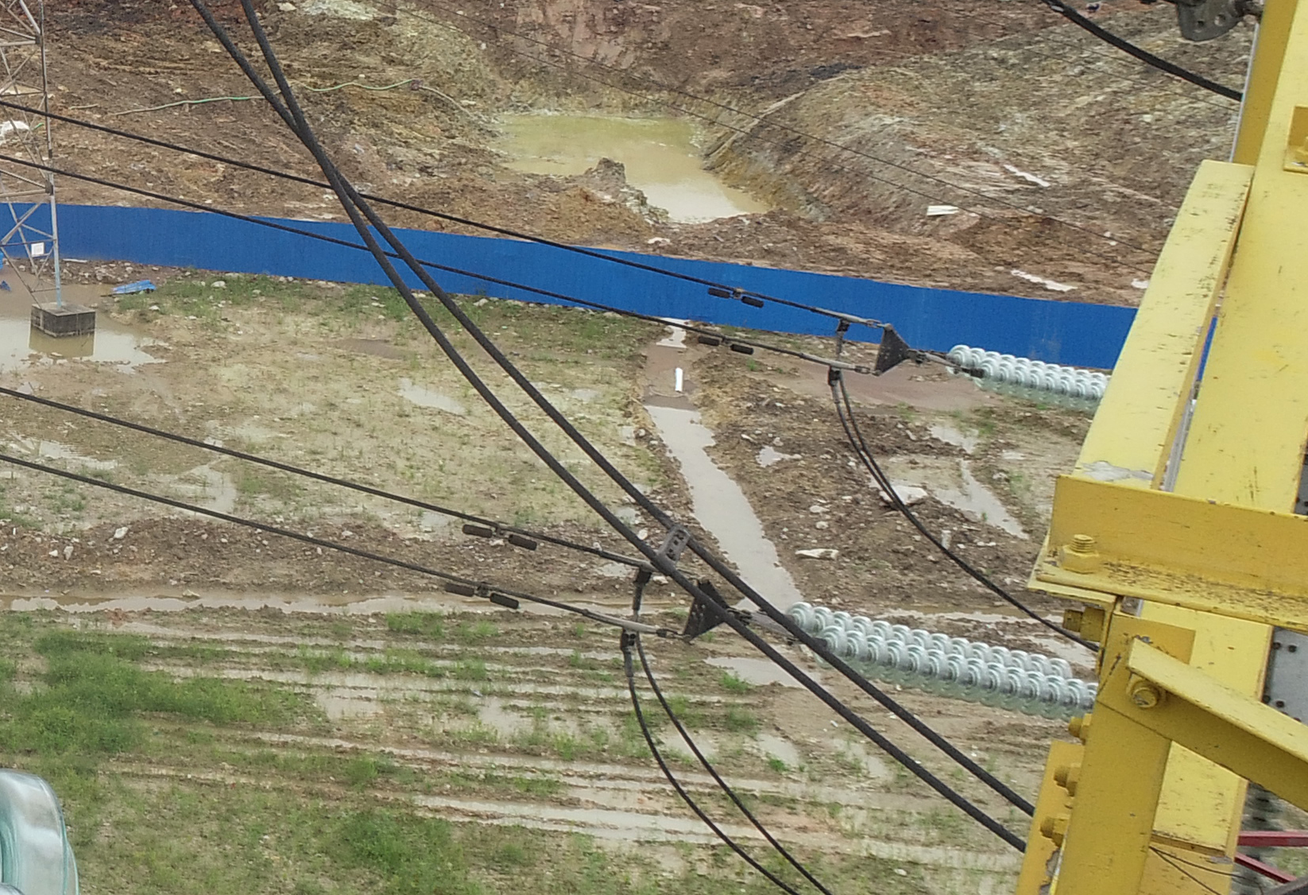damper: (457, 515, 542, 554), (442, 579, 521, 612), (702, 282, 764, 310), (695, 330, 757, 357)
